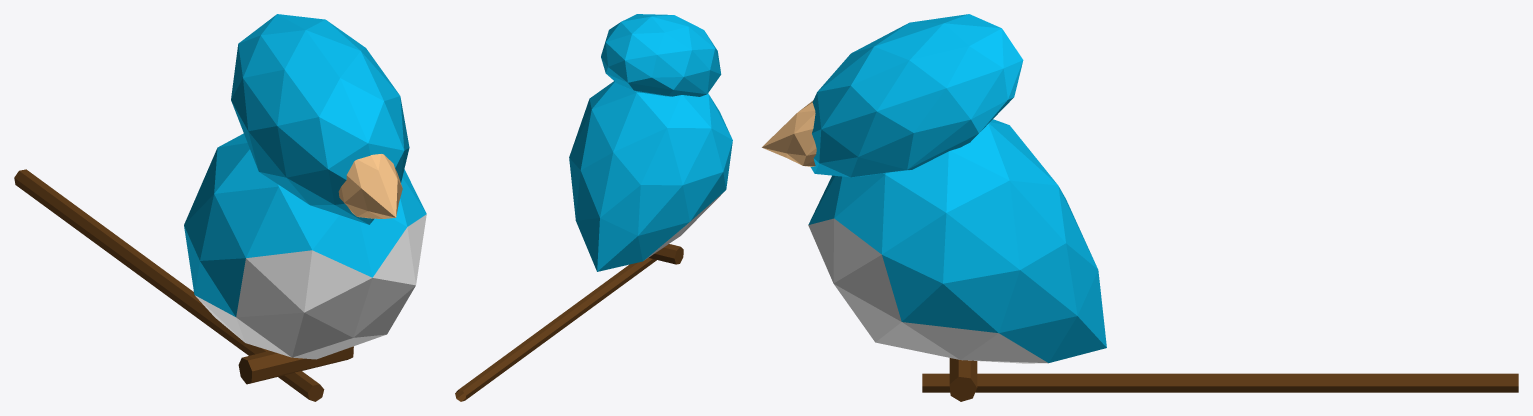
The model's file is bird.obj.
The picture shows the model from 3 angles, left to right: view 1: azimuth 30°, elevation 25°; view 2: azimuth 150°, elevation 25°; view 3: azimuth 270°, elevation 25°; orthographic projection. The views are drawn at different scales.
Visible parts, largest first — view 1: polySurface6; view 2: polySurface6; view 3: polySurface6.
Part boxes in pixels (<box>): polySurface6: <box>14,14,426,401</box>; polySurface6: <box>455,14,732,401</box>; polySurface6: <box>762,14,1518,401</box>.
Size of the model in its own units: 0.5634 by 0.9218 by 1.71.
1 material, 1 textured.
